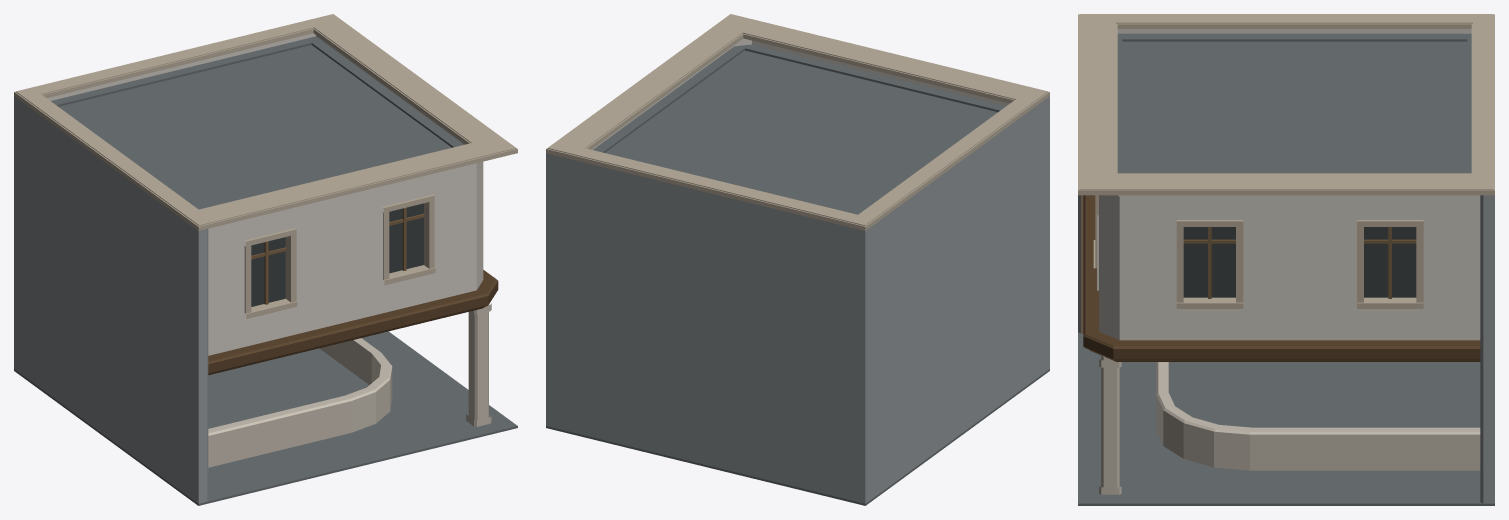
The model's file is corner-restaurant-unit-d85304.glb.
3 renders of one model, left to right at view 1: azimuth 30°, elevation 25°; view 2: azimuth 150°, elevation 25°; view 3: azimuth 270°, elevation 25°, orthographic. The views are drawn at different scales.
Parts seen in each view (by area): view 1: corner-unit-shell; view 2: corner-unit-shell; view 3: corner-unit-shell.
Boxes of the visible parts, x1,y1,x2,y2 form: corner-unit-shell: [14, 14, 517, 505]; corner-unit-shell: [546, 14, 1049, 505]; corner-unit-shell: [1078, 14, 1494, 505].
Bounding box in the file's own units: 8 × 6.7 × 8.
